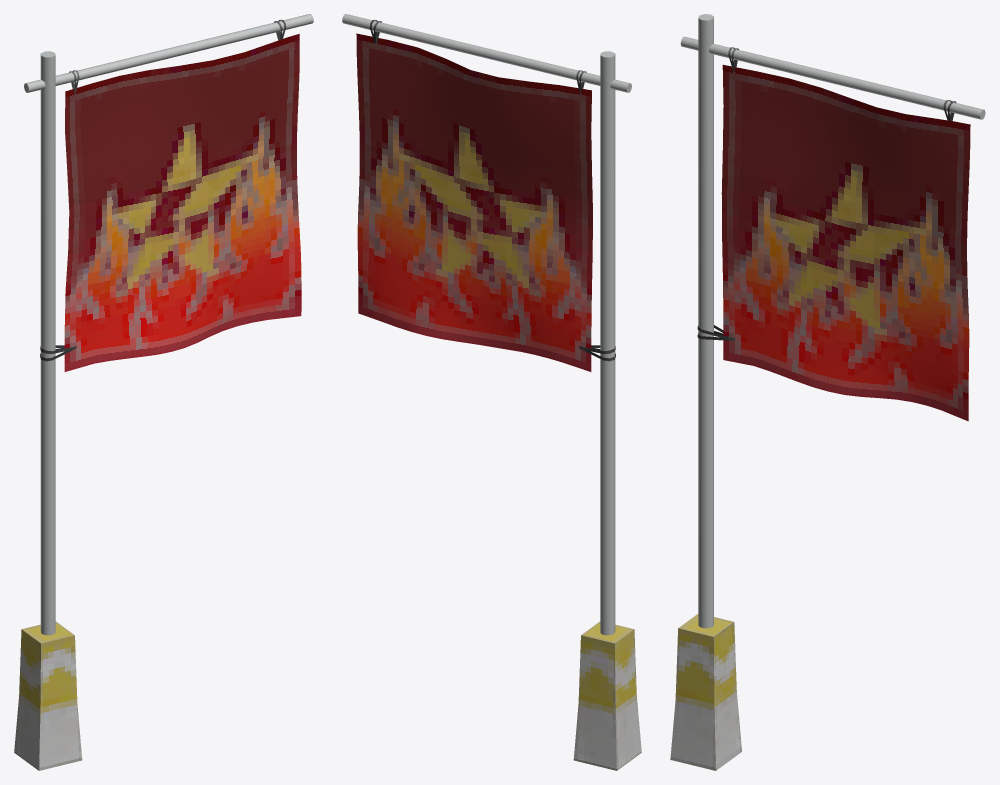
File: objects_un_base_flag02_fire.gltf
3 views of the same model, side by side, from view 1: azimuth 30°, elevation 25°; view 2: azimuth 150°, elevation 25°; view 3: azimuth 330°, elevation 25° (orthographic). The views are drawn at different scales.
Parts seen in each view (by area): view 1: nomerge_objects_un_base_flag02_fire_mesh2_shape:objects_un_b, objects_un_base_flag02_fire_mesh1_shape:objects_un_base_flag; view 2: nomerge_objects_un_base_flag02_fire_mesh2_shape:objects_un_b, objects_un_base_flag02_fire_mesh1_shape:objects_un_base_flag; view 3: nomerge_objects_un_base_flag02_fire_mesh2_shape:objects_un_b, objects_un_base_flag02_fire_mesh1_shape:objects_un_base_flag.
Boxes of the visible parts, x1=… form: nomerge_objects_un_base_flag02_fire_mesh2_shape:objects_un_b: x1=40, y1=19, x2=301, y2=371; objects_un_base_flag02_fire_mesh1_shape:objects_un_base_flag: x1=14, y1=14, x2=313, y2=770; nomerge_objects_un_base_flag02_fire_mesh2_shape:objects_un_b: x1=356, y1=19, x2=615, y2=371; objects_un_base_flag02_fire_mesh1_shape:objects_un_base_flag: x1=342, y1=14, x2=641, y2=770; nomerge_objects_un_base_flag02_fire_mesh2_shape:objects_un_b: x1=697, y1=47, x2=970, y2=421; objects_un_base_flag02_fire_mesh1_shape:objects_un_base_flag: x1=670, y1=14, x2=985, y2=770.
Size of what is drawn, in the model's own units: 2.12 by 5 by 0.3223.
Materials: 2 (2 with a texture image).
